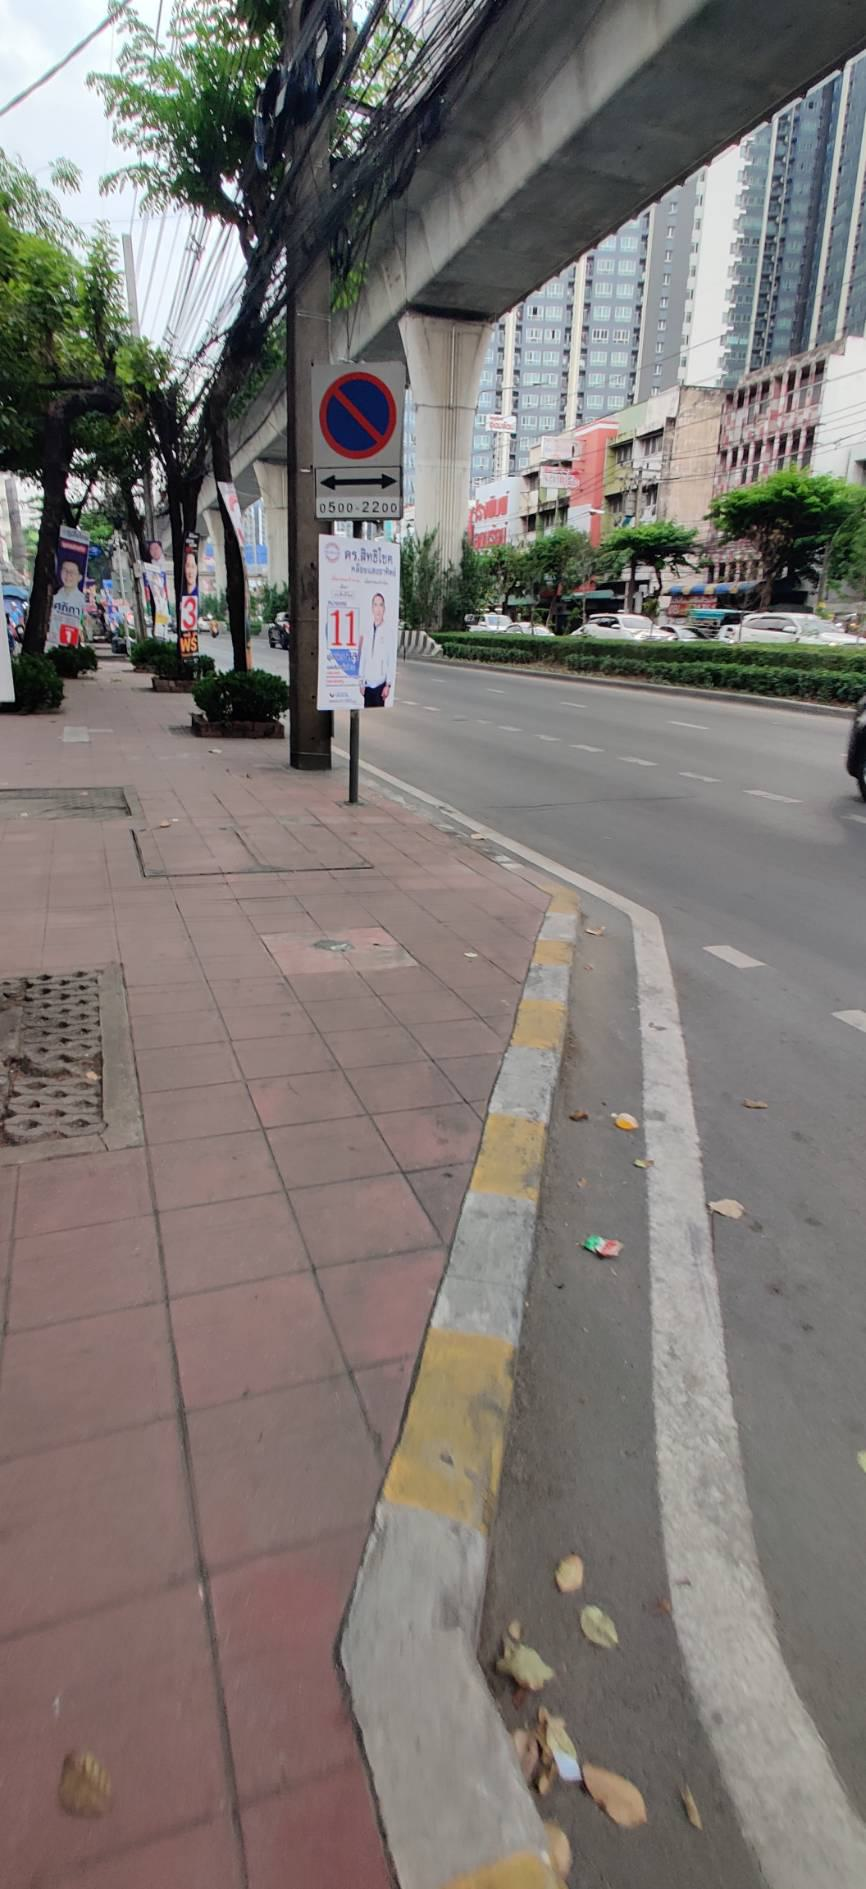Banner: (316, 532, 396, 722)
